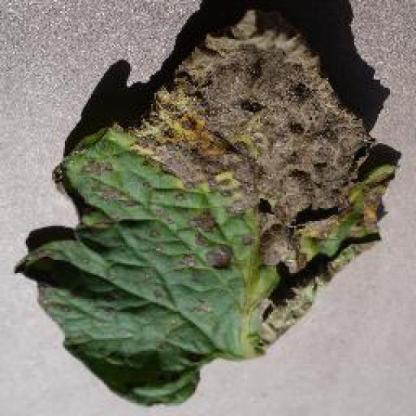Tomato_Blight: (14, 7, 398, 404)
